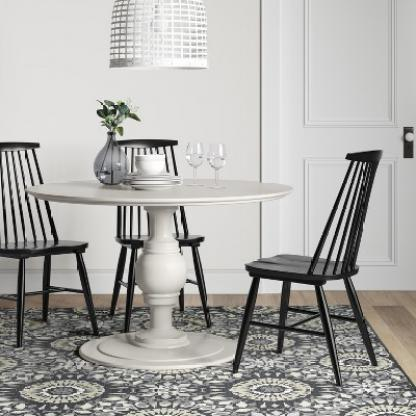chair: (228, 143, 391, 383), (106, 127, 214, 337), (1, 143, 99, 346)
door: (265, 6, 416, 291)
table: (21, 175, 292, 374)
